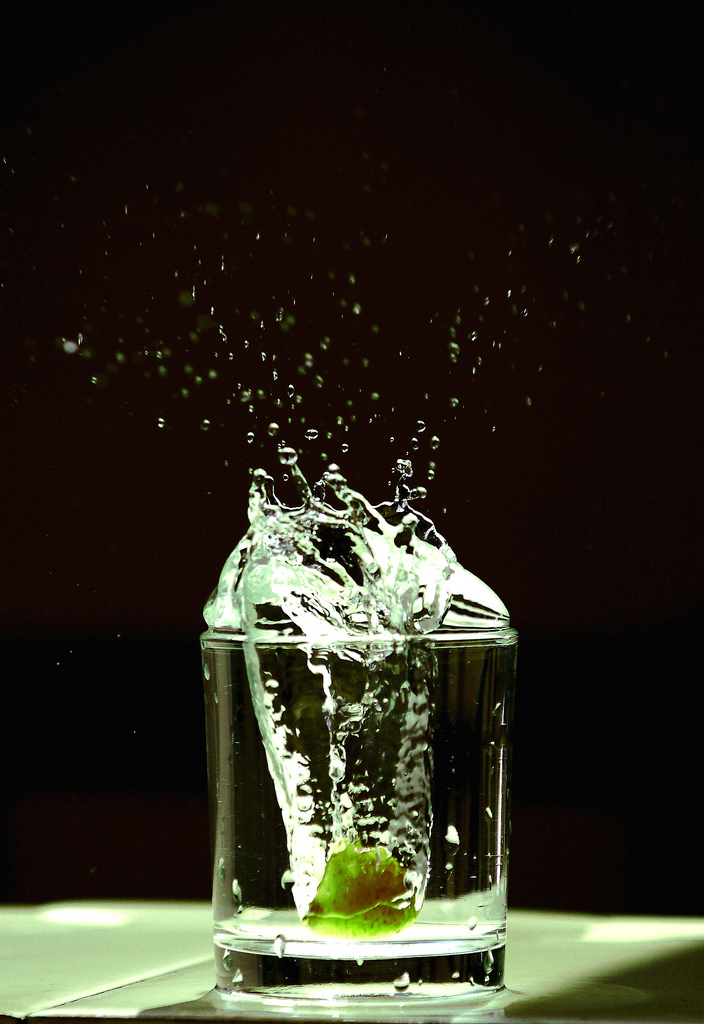glass of water: (166, 448, 555, 1001)
